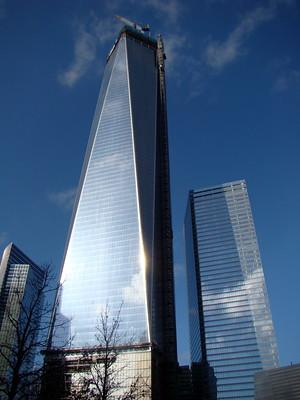building: (36, 17, 182, 399), (180, 174, 286, 400)
